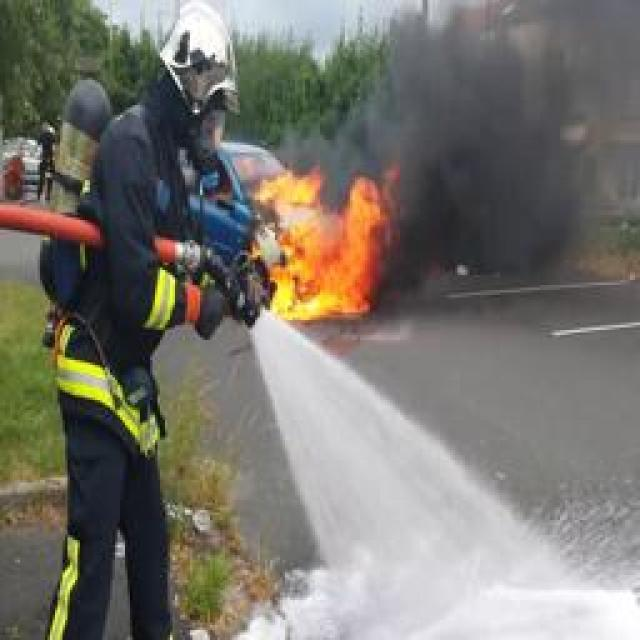Fire: (256, 162, 389, 336)
Smoke: (397, 1, 640, 265)
